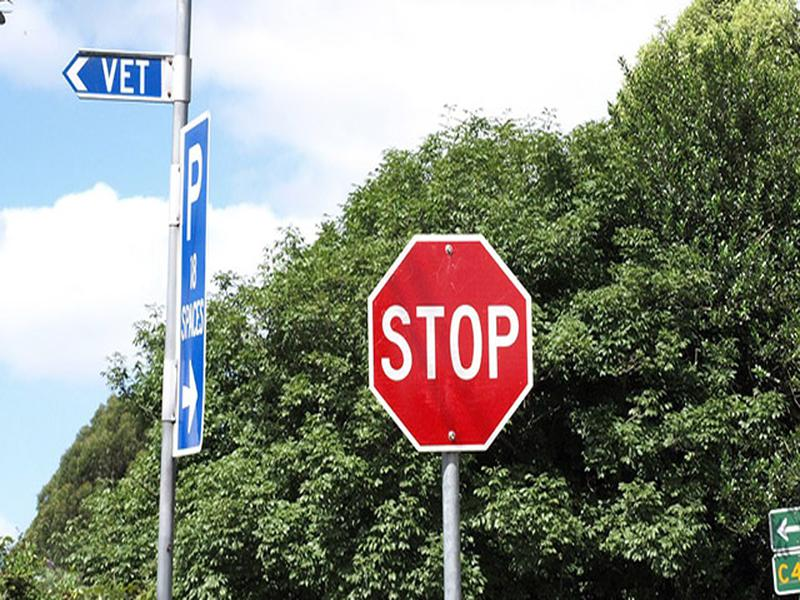stop: (365, 229, 537, 458)
